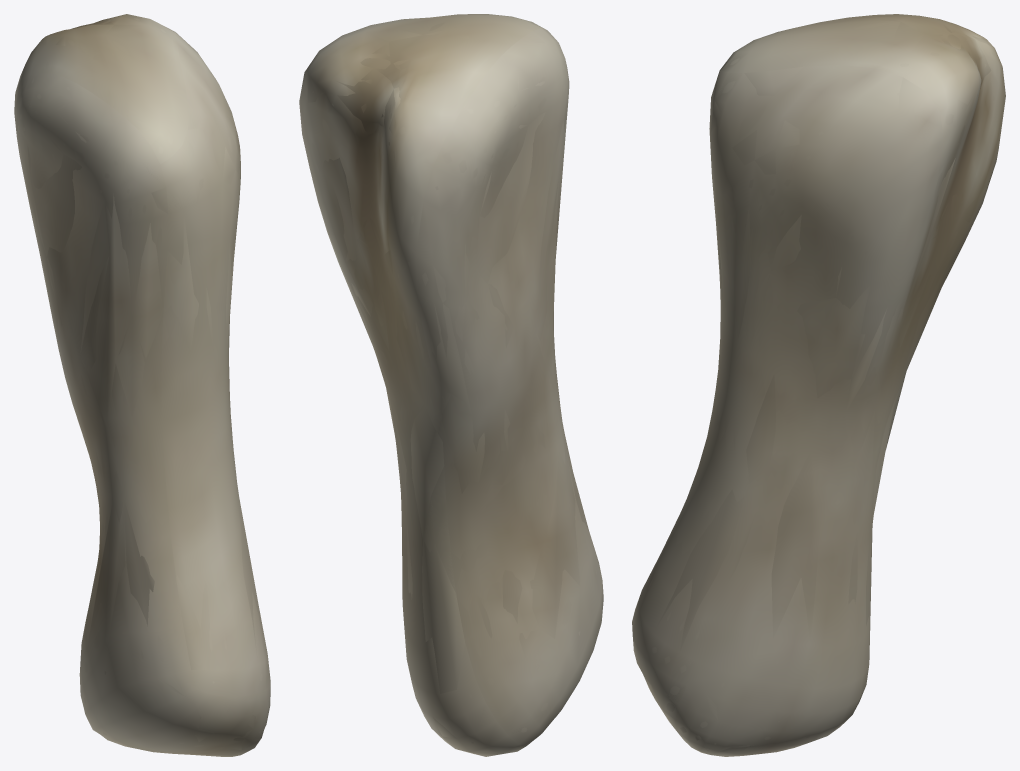
File: L calcaneus.fbx
3 views of the same model, side by side, from view 1: azimuth 30°, elevation 25°; view 2: azimuth 150°, elevation 25°; view 3: azimuth 270°, elevation 25° (orthographic). The views are drawn at different scales.
Parts seen in each view (by area): view 1: L calcaneus, L calcaneus high, L calcaneus low; view 2: L calcaneus, L calcaneus low, L calcaneus high; view 3: L calcaneus, L calcaneus low, L calcaneus high.
Part boxes in pixels (x1,y1,x2,y2): L calcaneus: (14,14,270,756); L calcaneus high: (16,18,269,755); L calcaneus low: (18,16,269,752); L calcaneus: (299,14,603,755); L calcaneus low: (299,22,589,756); L calcaneus high: (304,22,596,752); L calcaneus: (632,14,1005,756); L calcaneus low: (633,15,1005,756); L calcaneus high: (637,15,1003,751).
Size of the model in its own units: 0.4766 by 1.71 by 0.8094.
Materials: 1 (1 with a texture image).
